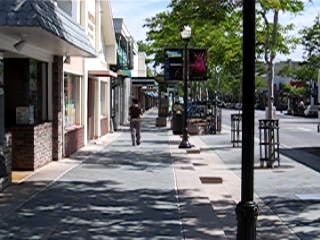person: (128, 95, 143, 146), (127, 95, 142, 146), (129, 95, 144, 146), (128, 94, 143, 145), (128, 96, 143, 147)
target_negative: (205, 141, 291, 231), (73, 37, 191, 68), (183, 218, 260, 237), (200, 188, 227, 199), (241, 231, 259, 240), (129, 76, 142, 82)
